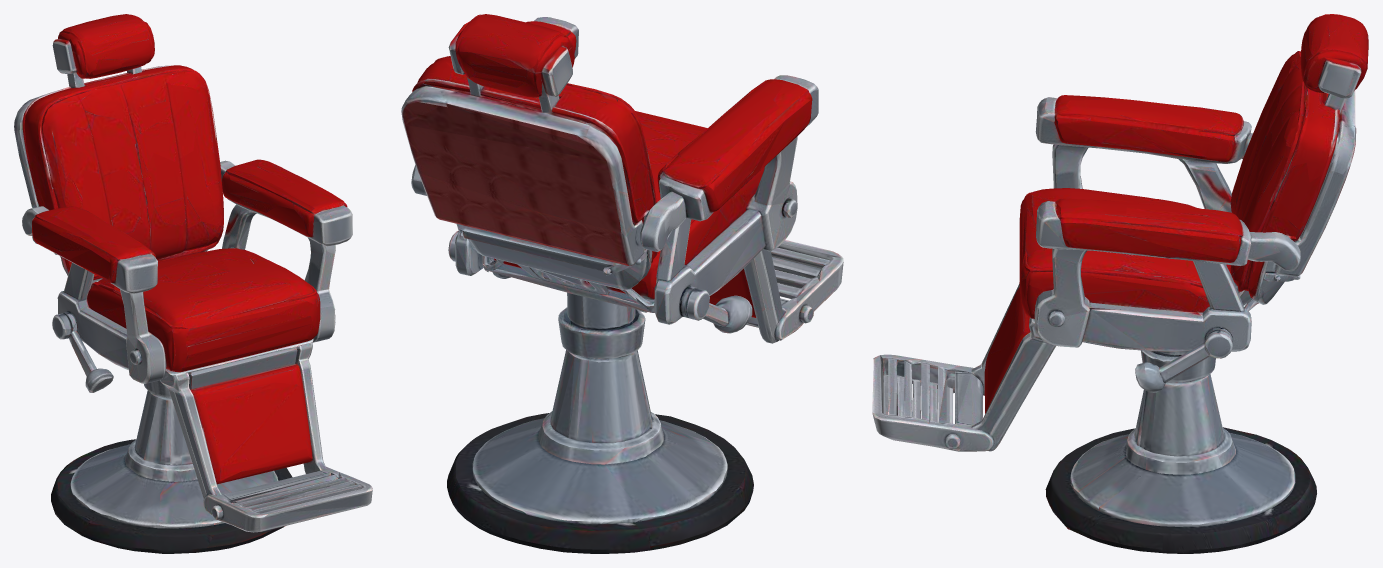
The model's file is p_care.glb.
3 renders of one model, left to right at view 1: azimuth 30°, elevation 25°; view 2: azimuth 150°, elevation 25°; view 3: azimuth 270°, elevation 25°, orthographic. The views are drawn at different scales.
Size of the model in its own units: 1.11 by 1.9 by 1.83.
1 material, 1 textured.
